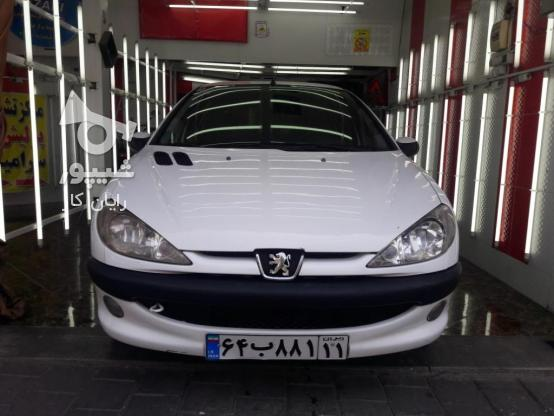car: (204, 329, 351, 362)
